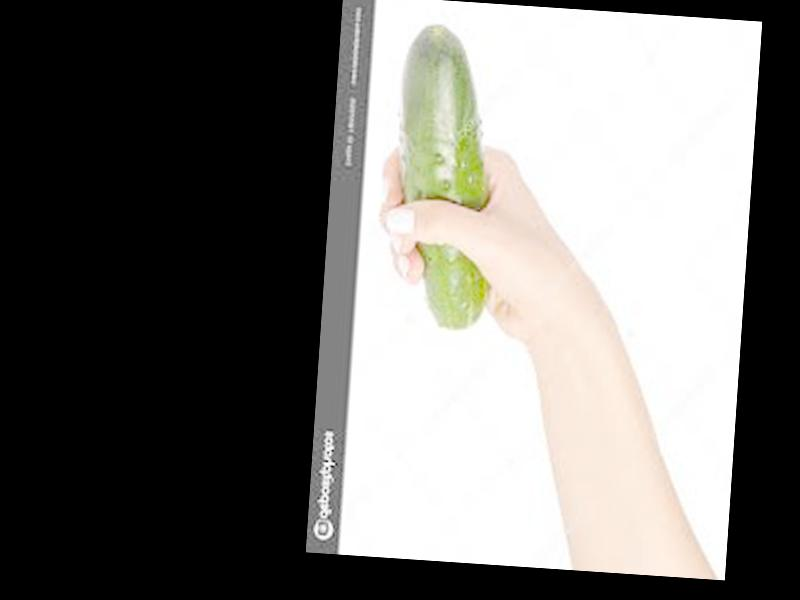Cucumber: (385, 19, 504, 330)
